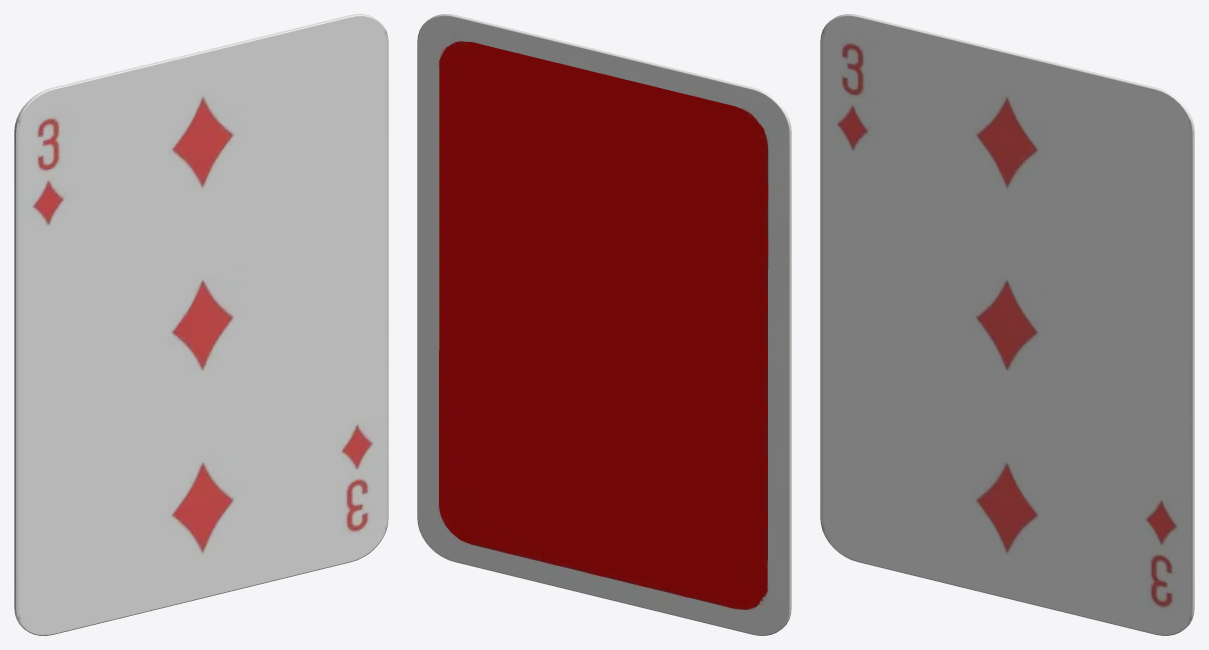
Rendered from diamonds_3.glb.
The picture shows the model from 3 angles, left to right: view 1: azimuth 30°, elevation 25°; view 2: azimuth 150°, elevation 25°; view 3: azimuth 330°, elevation 25°; orthographic projection.
Visible parts, largest first — view 1: defaultMaterial.033; view 2: defaultMaterial.033; view 3: defaultMaterial.033.
Part boxes in pixels (x1=…): defaultMaterial.033: x1=14, y1=14, x2=388, y2=635; defaultMaterial.033: x1=417, y1=14, x2=791, y2=635; defaultMaterial.033: x1=820, y1=14, x2=1194, y2=635.
Size of the model in its own units: 0.1408 by 0.1972 by 0.00111.
1 material, 1 textured.
